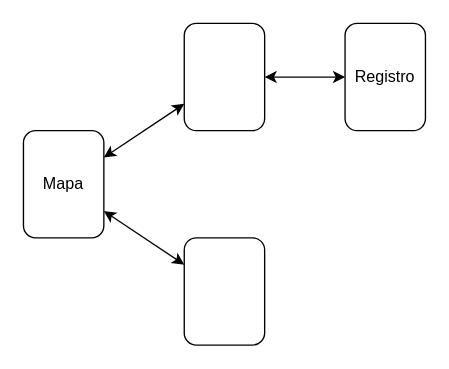
Some shapes in this 449 by 369 pixel diagram are drawn without their labels. Here are the shapes that lost their labels. From the top down, the centre of each, then its label:
At point 224,76: "Login".
At point 224,291: "Crear incidencia".
